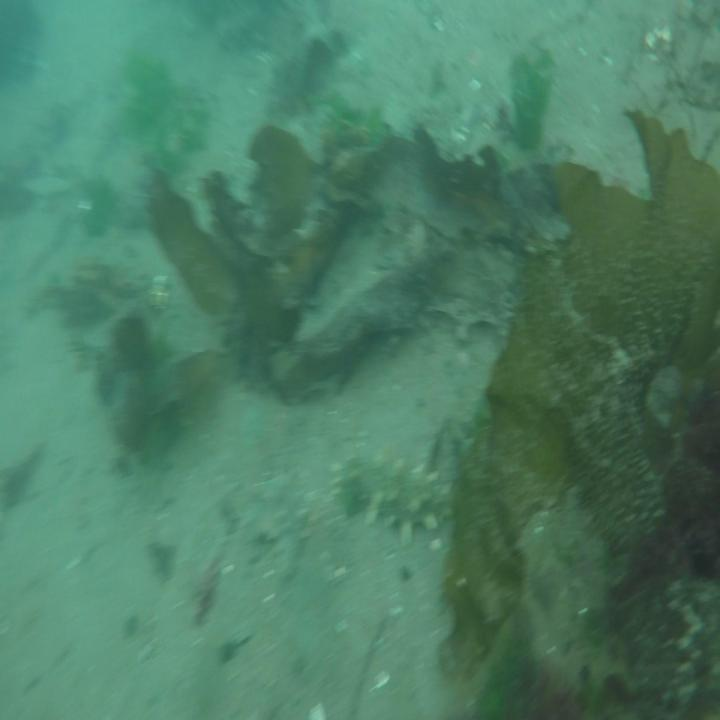holothurian: (331, 439, 457, 549)
